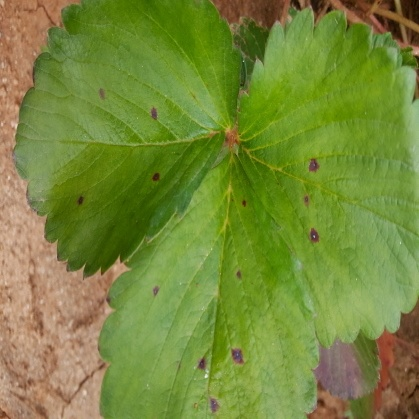Leaf_Spot: (0, 68, 235, 413), (172, 138, 407, 418), (99, 0, 323, 259)
